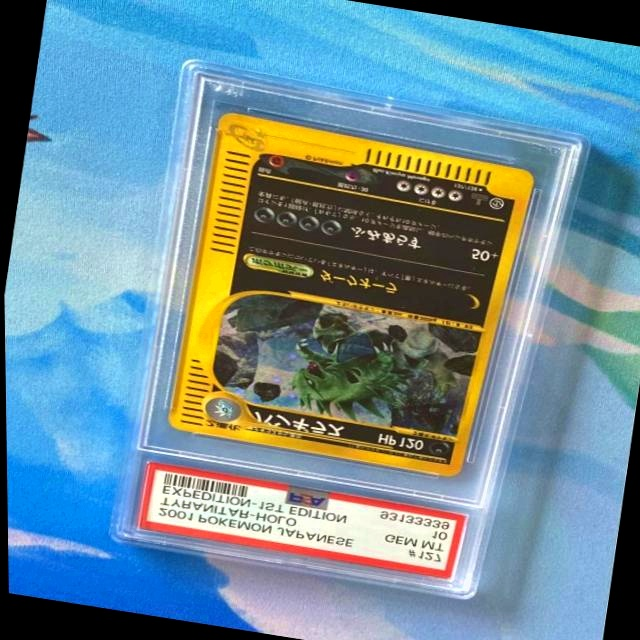card: (167, 112, 534, 477)
